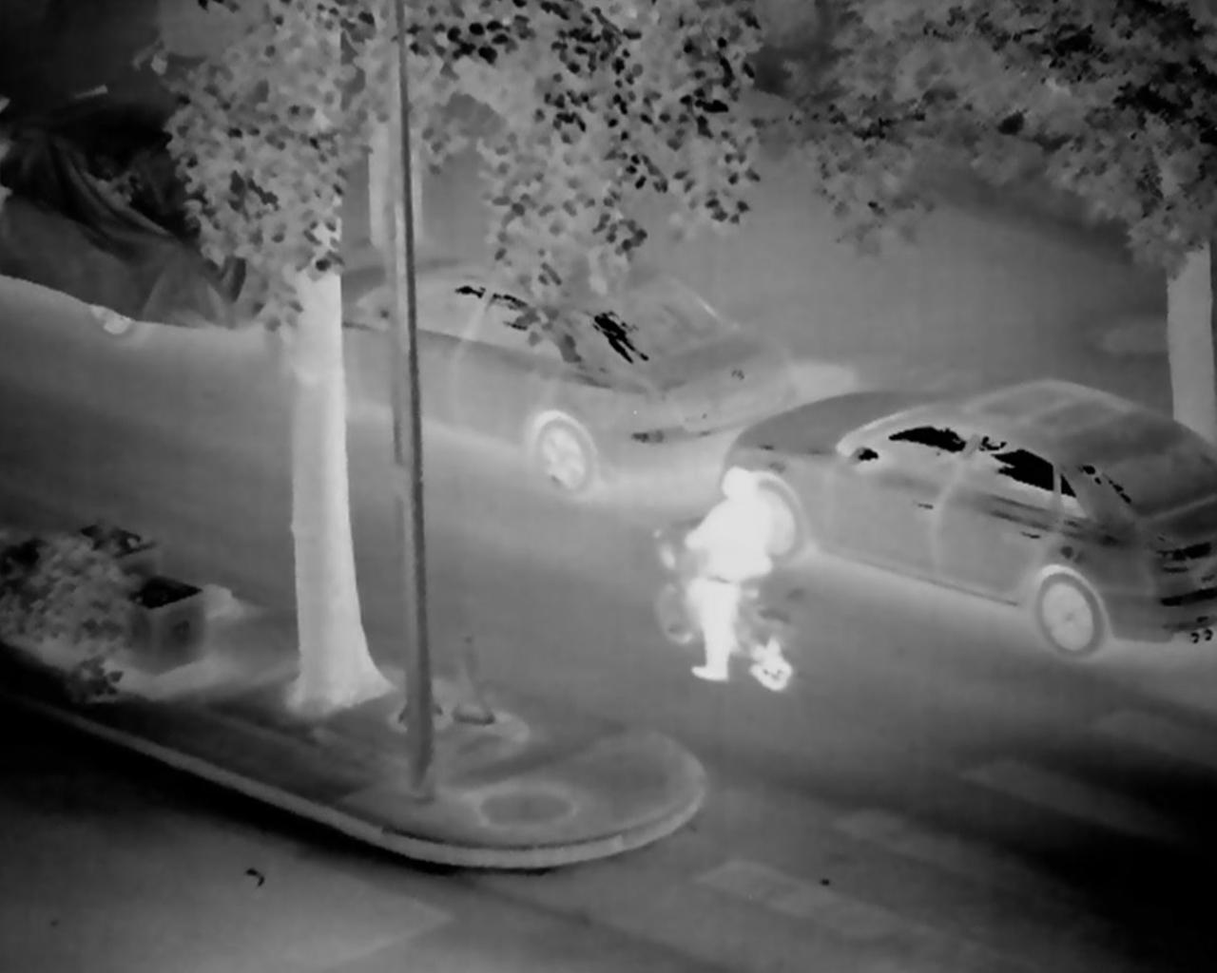person: (684, 466, 774, 699)
